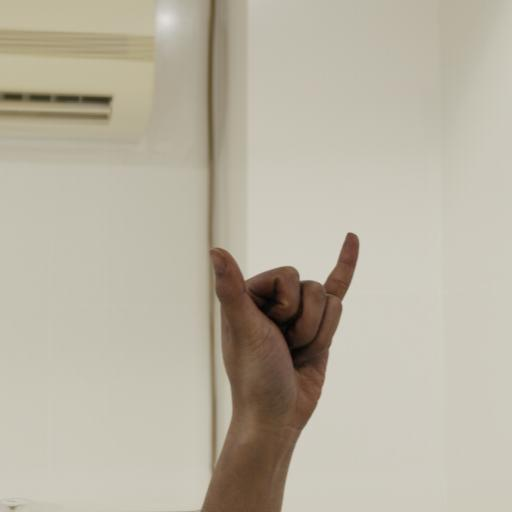Y: (189, 211, 409, 506)
